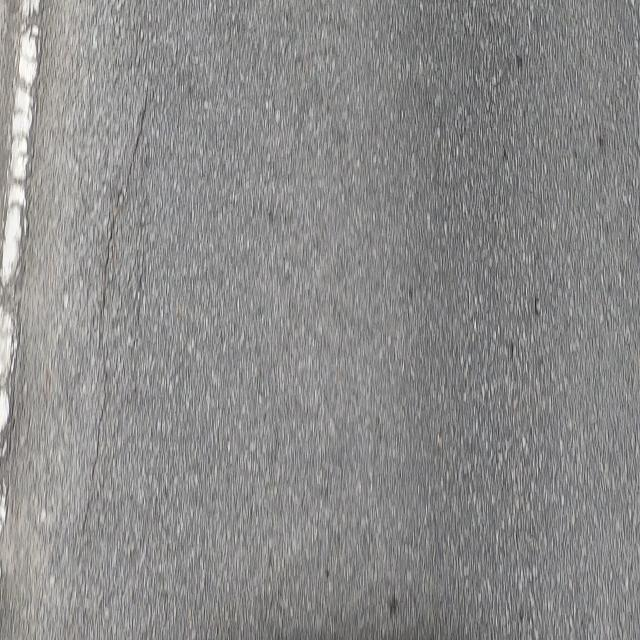Retak-Memanjang: (78, 79, 159, 539)
